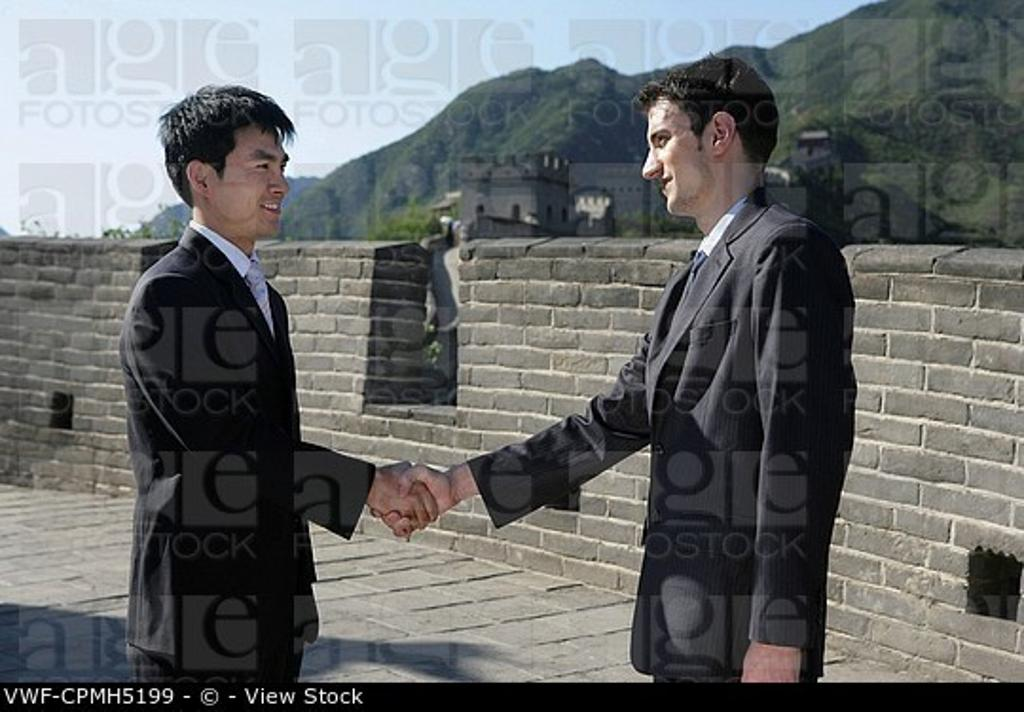face: (222, 106, 292, 228), (646, 90, 710, 216)
